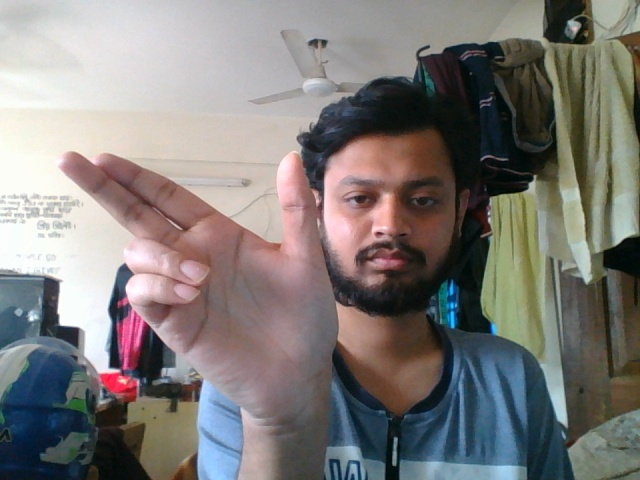jha: (41, 142, 347, 396)
